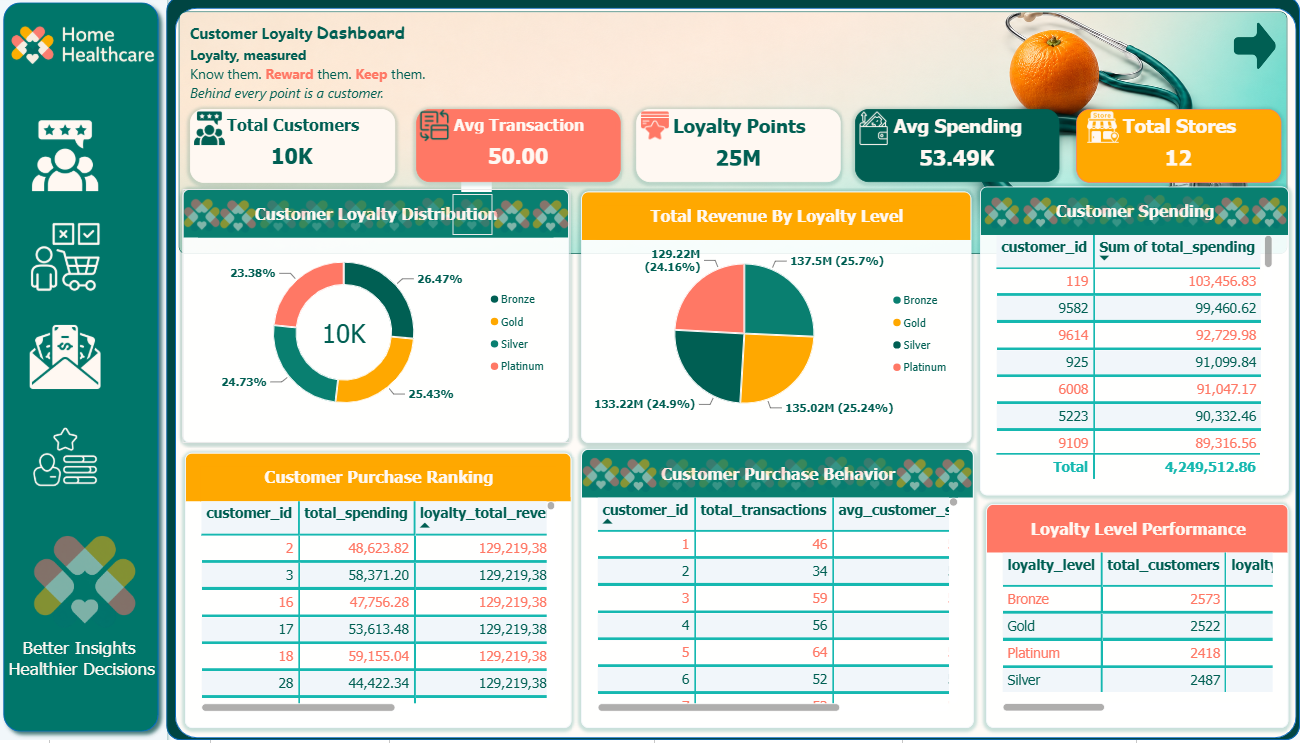

Layout of this report page (visuals, bound fields, positions):
{"tool":"powerbi","page":{"name":"Customer Loyalty Dashboard","canvas":[1400,800],"ordinal":4},"visuals":[{"type":"shape","box":[183.6,2.4,1215.8,797.6],"z":0},{"type":"group","id":"g1","title":"Group 8","box":[687.3,123.3,219,78.4],"z":0,"group":"g9"},{"type":"shape","box":[193.5,14.9,1202.7,783.3],"z":1000},{"type":"group","id":"g2","title":"Group 9","box":[922.3,123.5,219.4,78.2],"z":1000,"group":"g9"},{"type":"cardVisual","title":"Total Customers","fields":{"Data":["Count(healthcare_db_enhanced customer_payment.customer_id)"]},"box":[209.1,123.3,219.9,78.9],"z":2000,"group":"g5"},{"type":"group","id":"g3","title":"Group 10","box":[1159.5,123.5,219.9,78.9],"z":2000,"group":"g9"},{"type":"tableEx","title":"Loyalty Level Performance","fields":{"Values":["healthcare_db_enhanced vw_customer_dashboard.loyalty_level","healthcare_db_enhanced vw_customer_dashboard.total_customers","healthcare_db_enhanced vw_customer_dashboard.loyalty_total_revenue","healthcare_db_enhanced vw_customer_dashboard.avg_customer_spending","healthcare_db_enhanced vw_customer_dashboard.avg_loyalty_points"]},"box":[1063,546.9,324.4,239.9],"z":2000},{"type":"image","box":[196.7,18.9,1188.9,260],"z":3000},{"type":"group","id":"g4","title":"Group 11","box":[451.8,123.3,219,78.4],"z":3000,"group":"g9"},{"type":"donutChart","title":"Customer Loyalty Distribution","fields":{"Category":["healthcare_db_enhanced vw_customer_dashboard.loyalty_level"],"Y":["Sum(healthcare_db_enhanced vw_customer_dashboard.total_customers)"]},"box":[200.5,208.8,414.2,272.1],"z":3000,"group":"g8"},{"type":"group","id":"g5","title":"Group 12","box":[209.1,123.3,219.9,78.9],"z":4000,"group":"g9"},{"type":"tableEx","title":"Customer Purchase Ranking","fields":{"Values":["healthcare_db_enhanced vw_customer_dashboard.customer_id","healthcare_db_enhanced vw_customer_dashboard.total_spending","healthcare_db_enhanced vw_customer_dashboard.loyalty_total_revenue","healthcare_db_enhanced vw_customer_dashboard.spending_rank","healthcare_db_enhanced vw_customer_dashboard.spending_group"]},"box":[203.8,492,414.2,294.9],"z":4000},{"type":"group","id":"g6","title":"Group 1","box":[0,0,185.7,800],"z":5000},{"type":"tableEx","title":"Customer Spending","fields":{"Values":["healthcare_db_enhanced vw_customer_dashboard.customer_id","Sum(healthcare_db_enhanced vw_customer_dashboard.total_spending)"]},"box":[1055.5,206.3,331.1,331.1],"z":5000,"group":"g16"},{"type":"pieChart","title":"Total Revenue By Loyalty Level","fields":{"Category":["healthcare_db_enhanced vw_customer_dashboard.loyalty_level"],"Y":["Sum(healthcare_db_enhanced vw_customer_dashboard.total_payment)"]},"box":[628.2,211.5,418.2,269.4],"z":6000},{"type":"cardVisual","title":"Avg Spending ","fields":{"Data":["Avg(healthcare_db_enhanced vw_customer_dashboard.total_spending)"]},"box":[922.7,123.5,219,78.2],"z":7000,"group":"g2"},{"type":"group","id":"g7","title":"Group 6","box":[628.1,206.3,759,580.4],"z":7000},{"type":"tableEx","title":"Customer Purchase Behavior","fields":{"Values":["healthcare_db_enhanced vw_customer_dashboard.customer_id","healthcare_db_enhanced vw_customer_dashboard.total_transactions","healthcare_db_enhanced vw_customer_dashboard.avg_customer_spending","healthcare_db_enhanced vw_customer_dashboard.store_count"]},"box":[628.1,487.8,420.9,298.9],"z":7000,"group":"g15"},{"type":"cardVisual","title":"Loyalty Points ","fields":{"Data":["Sum(healthcare_db_enhanced vw_customer_dashboard.total_points)"]},"box":[687.3,123.5,219,78.2],"z":8000,"group":"g1"},{"type":"group","id":"g8","title":"Group 7","box":[200.5,208.8,415.6,272.1],"z":8000},{"type":"group","id":"g9","title":"Group 13","box":[209.1,123.3,1170.2,79.1],"z":9000},{"type":"cardVisual","title":"Avg Transaction","fields":{"Data":["Avg(healthcare_db_enhanced vw_customer_dashboard.total_transactions)"]},"box":[451.8,123.5,219,78.2],"z":9000,"group":"g4"},{"type":"image","box":[200.5,213.8,41.8,44.9],"z":9000,"group":"g10"},{"type":"image","box":[628.1,491.3,42.3,45.1],"z":9000,"group":"g14"},{"type":"shape","box":[0,0,184.3,800],"z":10000,"group":"g6"},{"type":"cardVisual","title":"Total Stores","fields":{"Data":["Max(healthcare_db_enhanced vw_customer_dashboard.store_count)"]},"box":[1159.5,123.5,219.9,78.9],"z":10000,"group":"g3"},{"type":"group","id":"g10","title":"Group 2","box":[200.5,212.6,415.6,47.3],"z":10000,"group":"g8"},{"type":"image","box":[239.8,215,41.8,44.9],"z":10000,"group":"g10"},{"type":"image","box":[667.9,492.5,42.3,45.1],"z":10000,"group":"g14"},{"type":"image","box":[1058.8,214.1,41,39.9],"z":11000,"group":"g12"},{"type":"image","box":[281.6,215,41.8,44.9],"z":11000,"group":"g10"},{"type":"image","box":[710.2,492.5,42.3,45.1],"z":11000,"group":"g14"},{"type":"image","box":[28.2,570,136.7,119.3],"z":11000,"group":"g11"},{"type":"image","box":[5.4,0,174.3,109.9],"z":12000,"group":"g6"},{"type":"image","box":[1099.8,214.1,41,39.9],"z":12000,"group":"g12"},{"type":"image","box":[323.4,215,41.8,44.9],"z":12000,"group":"g10"},{"type":"image","box":[752.6,492.5,42.3,45.1],"z":12000,"group":"g14"},{"type":"image","box":[454.4,123.3,33.5,35.7],"z":13000,"group":"g4"},{"type":"image","box":[1140.9,214.1,41,39.9],"z":13000,"group":"g12"},{"type":"image","box":[365.2,215,41.8,44.9],"z":13000,"group":"g10"},{"type":"image","title":"Image loyalty","box":[27.4,458.7,96.5,75.9],"z":13000},{"type":"image","box":[794.9,492.5,42.3,45.1],"z":13000,"group":"g14"},{"type":"image","box":[1181.9,214.1,41,39.9],"z":14000,"group":"g12"},{"type":"image","box":[407,215,41.8,44.9],"z":14000,"group":"g10"},{"type":"image","box":[837.2,492.5,42.3,45.1],"z":14000,"group":"g14"},{"type":"group","id":"g11","title":"Group 5","box":[1.4,570,184.3,194.3],"z":14000,"group":"g6"},{"type":"textbox","box":[1.4,689.3,183.6,75.1],"z":14001,"group":"g13"},{"type":"group","id":"g12","title":"Group 2","box":[1058.8,212,328.4,42],"z":15000,"group":"g16"},{"type":"image","box":[1223,212,41,39.9],"z":15000,"group":"g12"},{"type":"image","box":[448.8,212.6,41.8,44.9],"z":15000,"group":"g10"},{"type":"image","box":[879.5,490.1,42.3,45.1],"z":15000,"group":"g14"},{"type":"group","id":"g13","title":"Group 4","box":[1.4,689.3,183.6,75.1],"z":15000,"group":"g11"},{"type":"image","box":[1264,213,41,39.9],"z":16000,"group":"g12"},{"type":"image","box":[490.6,213.8,41.8,44.9],"z":16000,"group":"g10"},{"type":"group","id":"g14","title":"Group 2","box":[628.1,490.1,425.4,47.4],"z":16000,"group":"g15"},{"type":"image","box":[921.8,491.3,42.3,45.1],"z":16000,"group":"g14"},{"type":"group","id":"g15","title":"Group 3","box":[628.1,487.8,425.4,298.9],"z":16001,"group":"g7"},{"type":"image","box":[1305.1,214.1,41,39.9],"z":17000,"group":"g12"},{"type":"image","box":[532.4,215,41.8,44.9],"z":17000,"group":"g10"},{"type":"image","box":[964.2,492.5,42.3,45.1],"z":17000,"group":"g14"},{"type":"image","box":[1166.3,124.4,44.2,35.7],"z":17001,"group":"g3"},{"type":"image","box":[209.1,125.5,41.6,35.7],"z":17002,"group":"g5"},{"type":"image","box":[922.3,126.5,40.2,35.7],"z":17003,"group":"g2"},{"type":"image","box":[691.8,123.3,32.2,35.7],"z":17004,"group":"g1"},{"type":"group","id":"g16","title":"Group 14","box":[1055.5,206.3,331.6,331.1],"z":17011,"group":"g7"},{"type":"image","title":"Image cus id 2","box":[26.9,136,96.5,75.9],"z":18000},{"type":"image","box":[1346.1,214.1,41,39.9],"z":18000,"group":"g12"},{"type":"image","box":[574.3,215,41.8,44.9],"z":18000,"group":"g10"},{"type":"image","box":[1006.5,492.5,42.3,45.1],"z":18000,"group":"g14"},{"type":"image","title":"Image behavior 2","box":[26.9,243.6,96.5,75.9],"z":19000},{"type":"image","title":"Image payment 2","box":[26.9,351.1,96.5,75.9],"z":20000},{"type":"textbox","box":[209.1,21.4,778.8,119.3],"z":22000},{"type":"shape","box":[1328.4,28.2,46.9,55],"z":23000}]}

Visuals, with their boxes in screenshot pixels (x1, y1, x2, y2), scaled from the page's 1400x800 canvas onto the 1300x743 screenshot:
shape: [left=170, top=2, right=1299, bottom=742]
"Group 8" group: [left=638, top=115, right=842, bottom=187]
shape: [left=180, top=14, right=1296, bottom=741]
"Group 9" group: [left=856, top=115, right=1060, bottom=187]
"Total Customers" cardVisual: [left=194, top=115, right=398, bottom=188]
"Group 10" group: [left=1077, top=115, right=1281, bottom=188]
"Loyalty Level Performance" tableEx: [left=987, top=508, right=1288, bottom=731]
image: [left=183, top=18, right=1287, bottom=259]
"Group 11" group: [left=420, top=115, right=623, bottom=187]
"Customer Loyalty Distribution" donutChart: [left=186, top=194, right=571, bottom=447]
"Group 12" group: [left=194, top=115, right=398, bottom=188]
"Customer Purchase Ranking" tableEx: [left=189, top=457, right=574, bottom=731]
"Group 1" group: [left=0, top=0, right=172, bottom=742]
"Customer Spending" tableEx: [left=980, top=192, right=1288, bottom=499]
"Total Revenue By Loyalty Level" pieChart: [left=583, top=196, right=972, bottom=447]
"Avg Spending " cardVisual: [left=857, top=115, right=1060, bottom=187]
"Group 6" group: [left=583, top=192, right=1288, bottom=731]
"Customer Purchase Behavior" tableEx: [left=583, top=453, right=974, bottom=731]
"Loyalty Points " cardVisual: [left=638, top=115, right=842, bottom=187]
"Group 7" group: [left=186, top=194, right=572, bottom=447]
"Group 13" group: [left=194, top=115, right=1281, bottom=188]
"Avg Transaction" cardVisual: [left=420, top=115, right=623, bottom=187]
image: [left=186, top=199, right=225, bottom=240]
image: [left=583, top=456, right=623, bottom=498]
shape: [left=0, top=0, right=171, bottom=742]
"Total Stores" cardVisual: [left=1077, top=115, right=1281, bottom=188]
"Group 2" group: [left=186, top=197, right=572, bottom=241]
image: [left=223, top=200, right=261, bottom=241]
image: [left=620, top=457, right=659, bottom=499]
image: [left=983, top=199, right=1021, bottom=236]
image: [left=261, top=200, right=300, bottom=241]
image: [left=659, top=457, right=699, bottom=499]
image: [left=26, top=529, right=153, bottom=640]
image: [left=5, top=0, right=167, bottom=102]
image: [left=1021, top=199, right=1059, bottom=236]
image: [left=300, top=200, right=339, bottom=241]
image: [left=699, top=457, right=738, bottom=499]
image: [left=422, top=115, right=453, bottom=148]
image: [left=1059, top=199, right=1097, bottom=236]
image: [left=339, top=200, right=378, bottom=241]
"Image loyalty" image: [left=25, top=426, right=115, bottom=497]
image: [left=738, top=457, right=777, bottom=499]
image: [left=1097, top=199, right=1136, bottom=236]
image: [left=378, top=200, right=417, bottom=241]
image: [left=777, top=457, right=817, bottom=499]
"Group 5" group: [left=1, top=529, right=172, bottom=710]
textbox: [left=1, top=640, right=172, bottom=710]
"Group 2" group: [left=983, top=197, right=1288, bottom=236]
image: [left=1136, top=197, right=1174, bottom=234]
image: [left=417, top=197, right=456, bottom=239]
image: [left=817, top=455, right=856, bottom=497]
"Group 4" group: [left=1, top=640, right=172, bottom=710]
image: [left=1174, top=198, right=1212, bottom=235]
image: [left=456, top=199, right=494, bottom=240]
"Group 2" group: [left=583, top=455, right=978, bottom=499]
image: [left=856, top=456, right=895, bottom=498]
"Group 3" group: [left=583, top=453, right=978, bottom=731]
image: [left=1212, top=199, right=1250, bottom=236]
image: [left=494, top=200, right=533, bottom=241]
image: [left=895, top=457, right=935, bottom=499]
image: [left=1083, top=116, right=1124, bottom=149]
image: [left=194, top=117, right=233, bottom=150]
image: [left=856, top=117, right=894, bottom=151]
image: [left=642, top=115, right=672, bottom=148]
"Group 14" group: [left=980, top=192, right=1288, bottom=499]
"Image cus id 2" image: [left=25, top=126, right=115, bottom=197]
image: [left=1250, top=199, right=1288, bottom=236]
image: [left=533, top=200, right=572, bottom=241]
image: [left=935, top=457, right=974, bottom=499]
"Image behavior 2" image: [left=25, top=226, right=115, bottom=297]
"Image payment 2" image: [left=25, top=326, right=115, bottom=397]
textbox: [left=194, top=20, right=917, bottom=131]
shape: [left=1234, top=26, right=1277, bottom=77]
